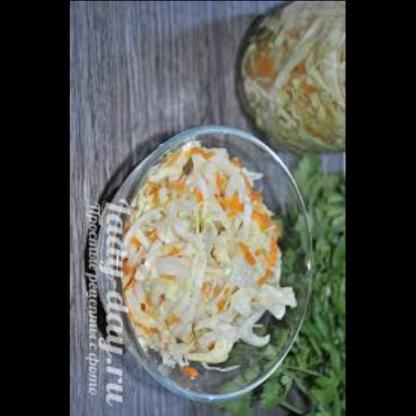cabbage: (125, 143, 296, 384), (238, 0, 346, 164)
carrot: (234, 236, 260, 270), (218, 190, 250, 216), (268, 235, 286, 275), (255, 207, 277, 231), (185, 146, 215, 161), (181, 362, 206, 380)
